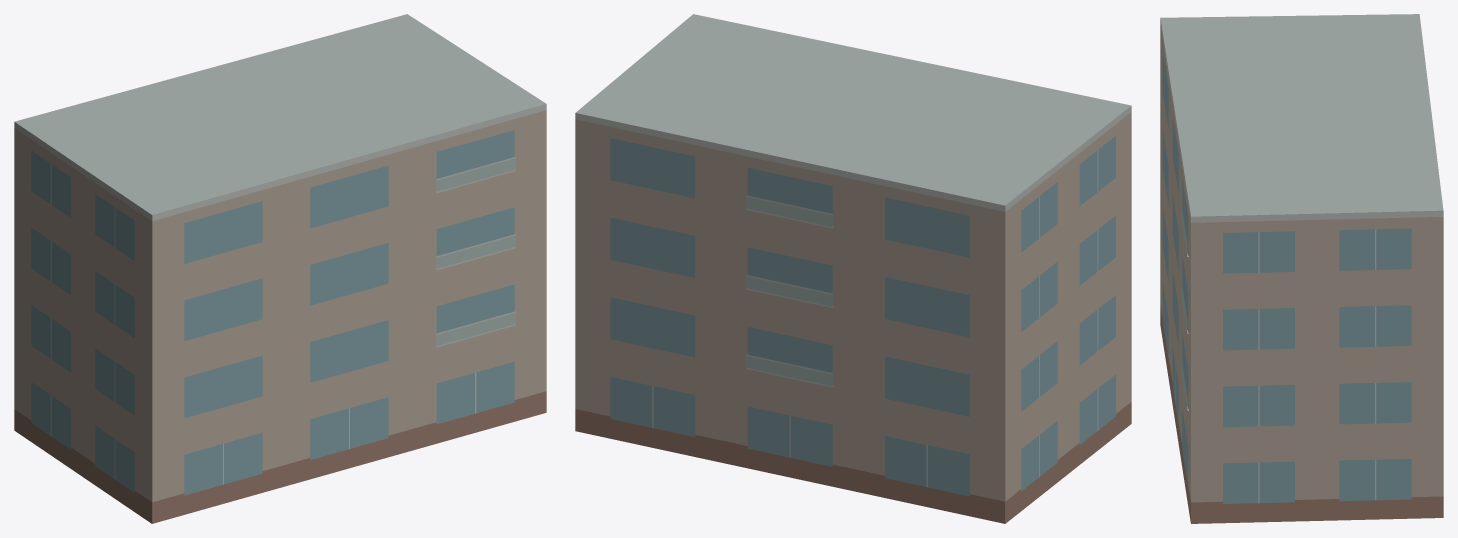
File: survey-upis-32757718.glb
The picture shows the model from 3 angles, left to right: view 1: azimuth 30°, elevation 25°; view 2: azimuth 150°, elevation 25°; view 3: azimuth 270°, elevation 25°; orthographic projection. The views are drawn at different scales.
Parts seen in each view (by area): view 1: survey-upis-32757718.tmp; view 2: survey-upis-32757718.tmp; view 3: survey-upis-32757718.tmp.
Boxes of the visible parts, x1,y1,x2,y2 form: survey-upis-32757718.tmp: [14, 14, 546, 523]; survey-upis-32757718.tmp: [575, 14, 1131, 523]; survey-upis-32757718.tmp: [1160, 14, 1443, 523].
Bounding box in the file's own units: 17.27 × 12.2 × 10.2.
